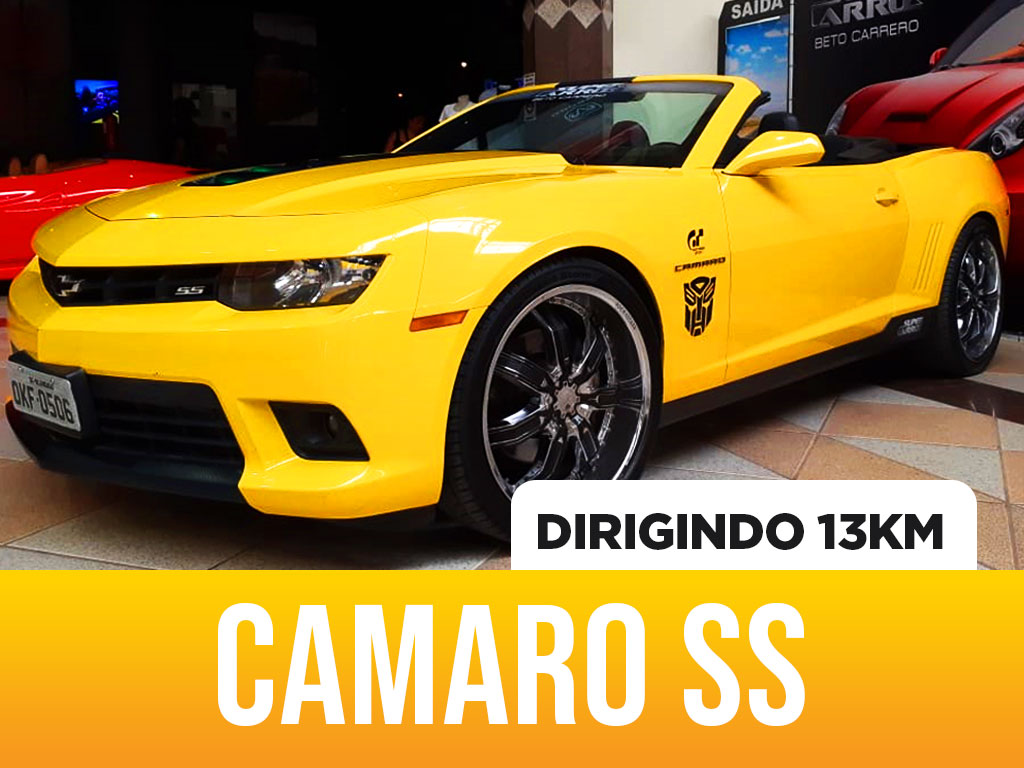Carro: (7, 69, 1011, 551)
